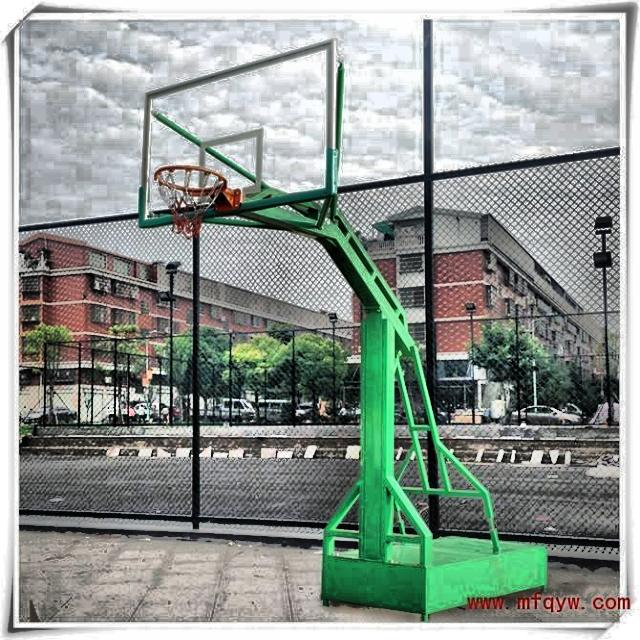rim: (153, 163, 225, 240)
